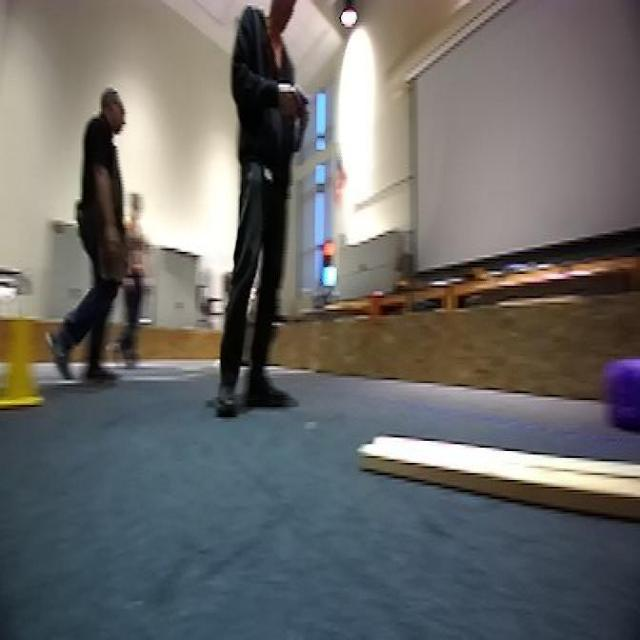frc_cone: (0, 322, 49, 405)
frc_cube: (602, 352, 640, 439)
